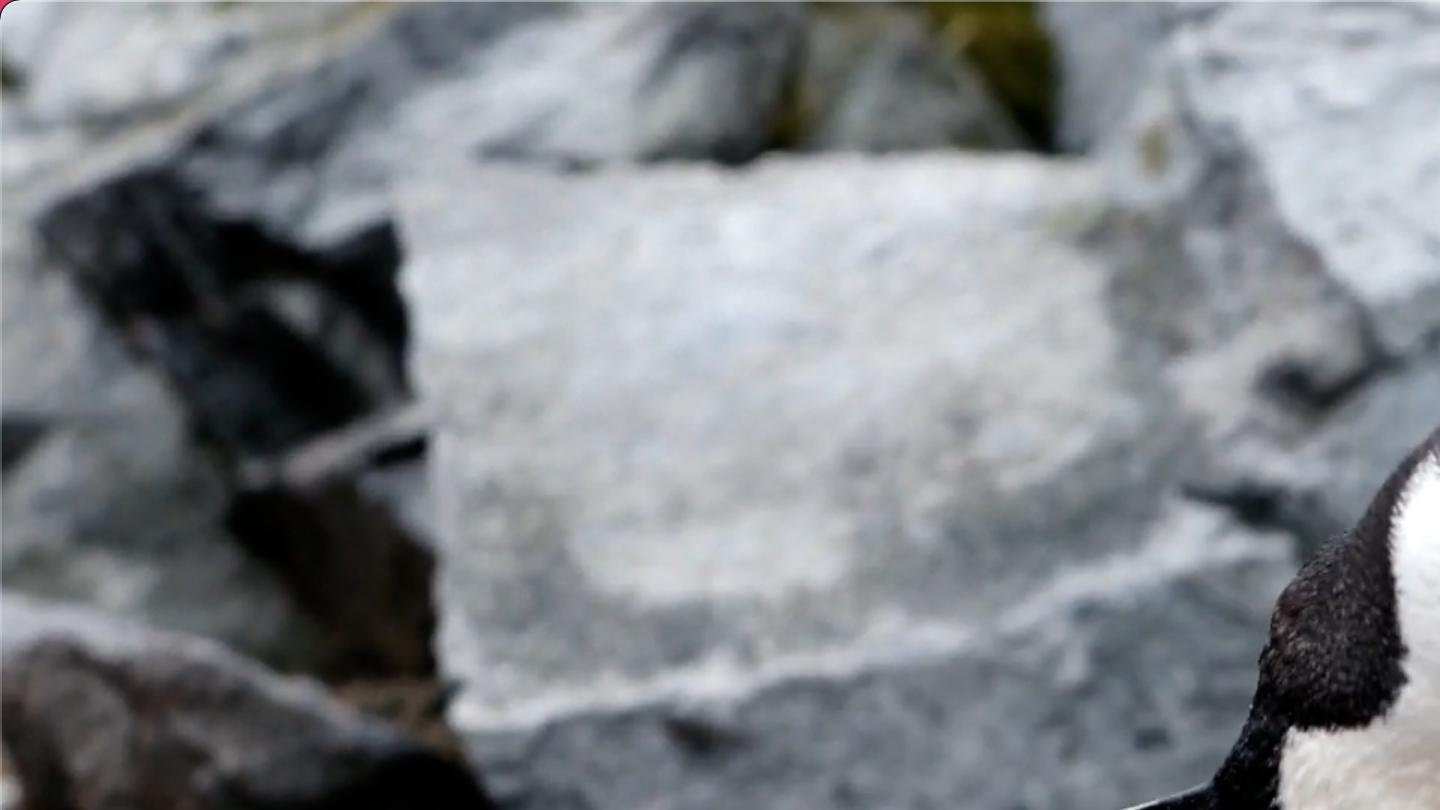Chinstrap Penguin: (541, 375, 1440, 810)
